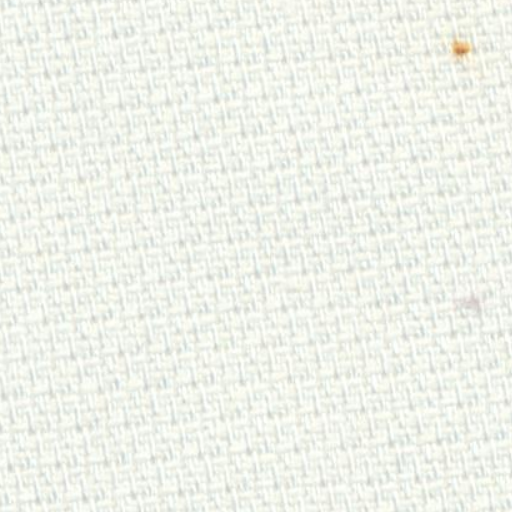WuZi: (436, 22, 488, 71), (445, 280, 490, 332)
